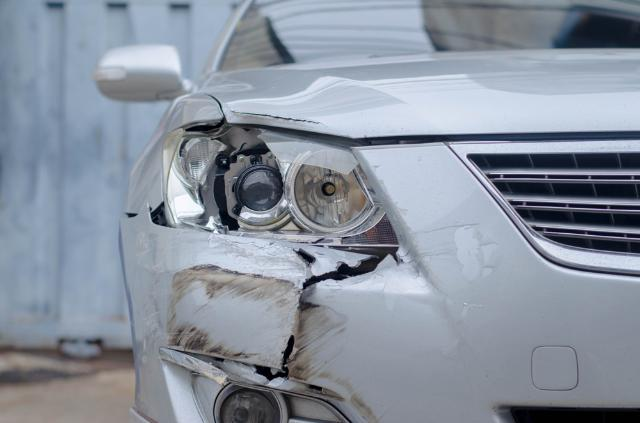crack: (302, 255, 389, 291), (254, 335, 296, 382), (295, 248, 315, 265)
lamp broken: (162, 127, 400, 255)
scratch: (137, 232, 308, 369), (288, 301, 388, 423)
